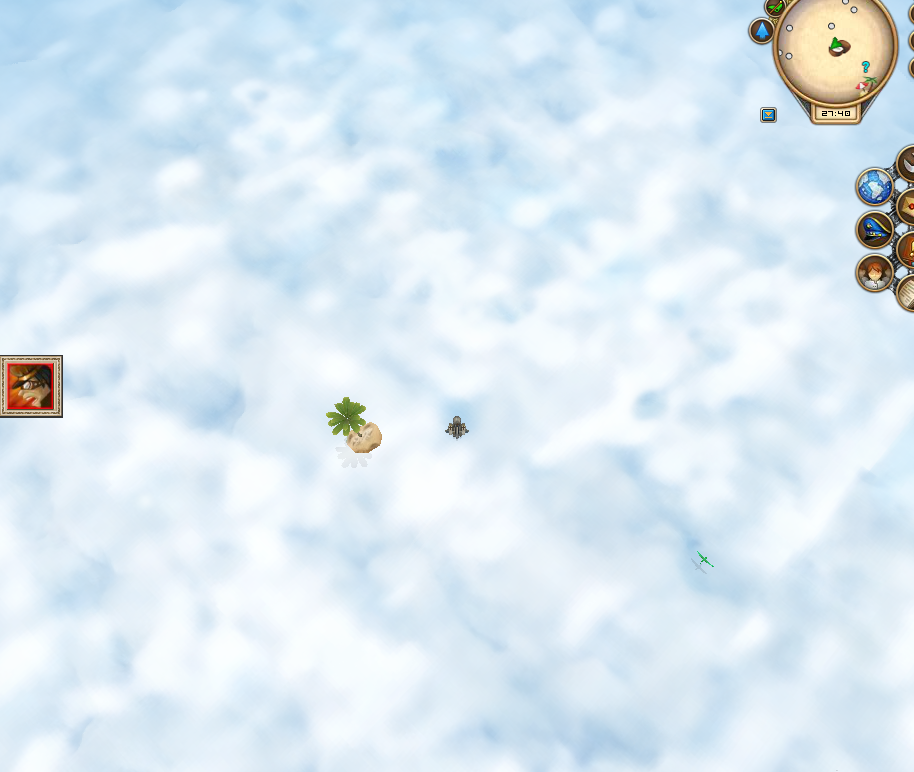palm: (319, 397, 387, 456)
